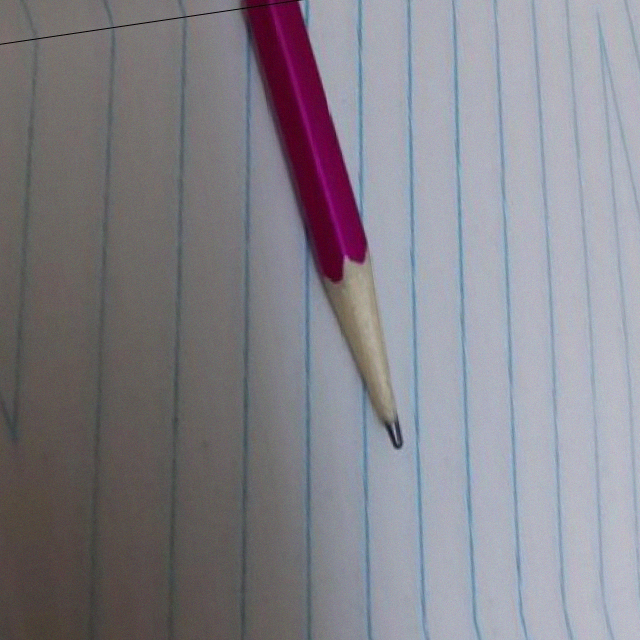pencil: (318, 242, 428, 464)
